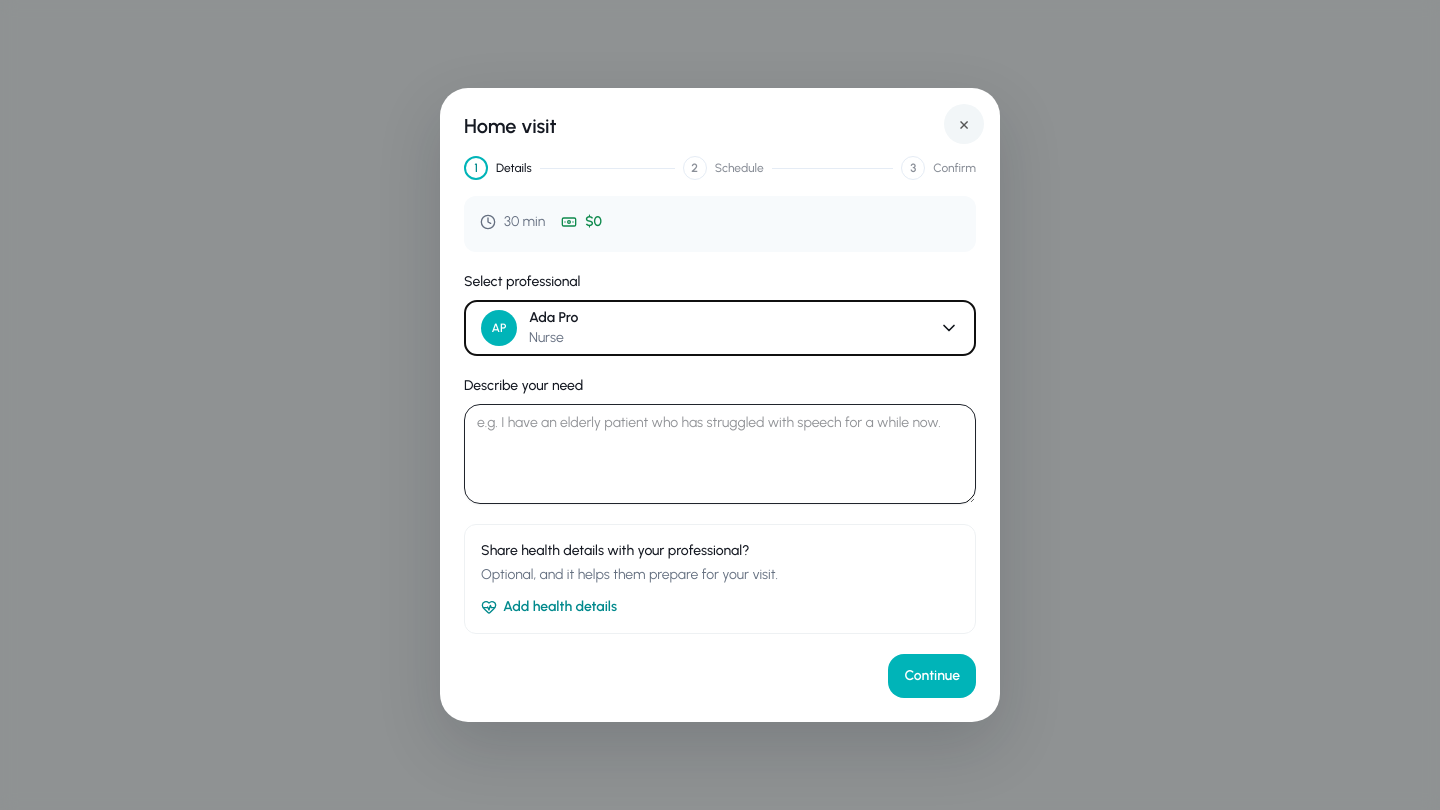
Scenario: booking is never blocked by the clinical layer › still reaches the schedule step when saving the profile fails
The width and height of the screenshot is (1440, 810).
Click the button "Add health details" at (549, 607), box [481,597,617,617]
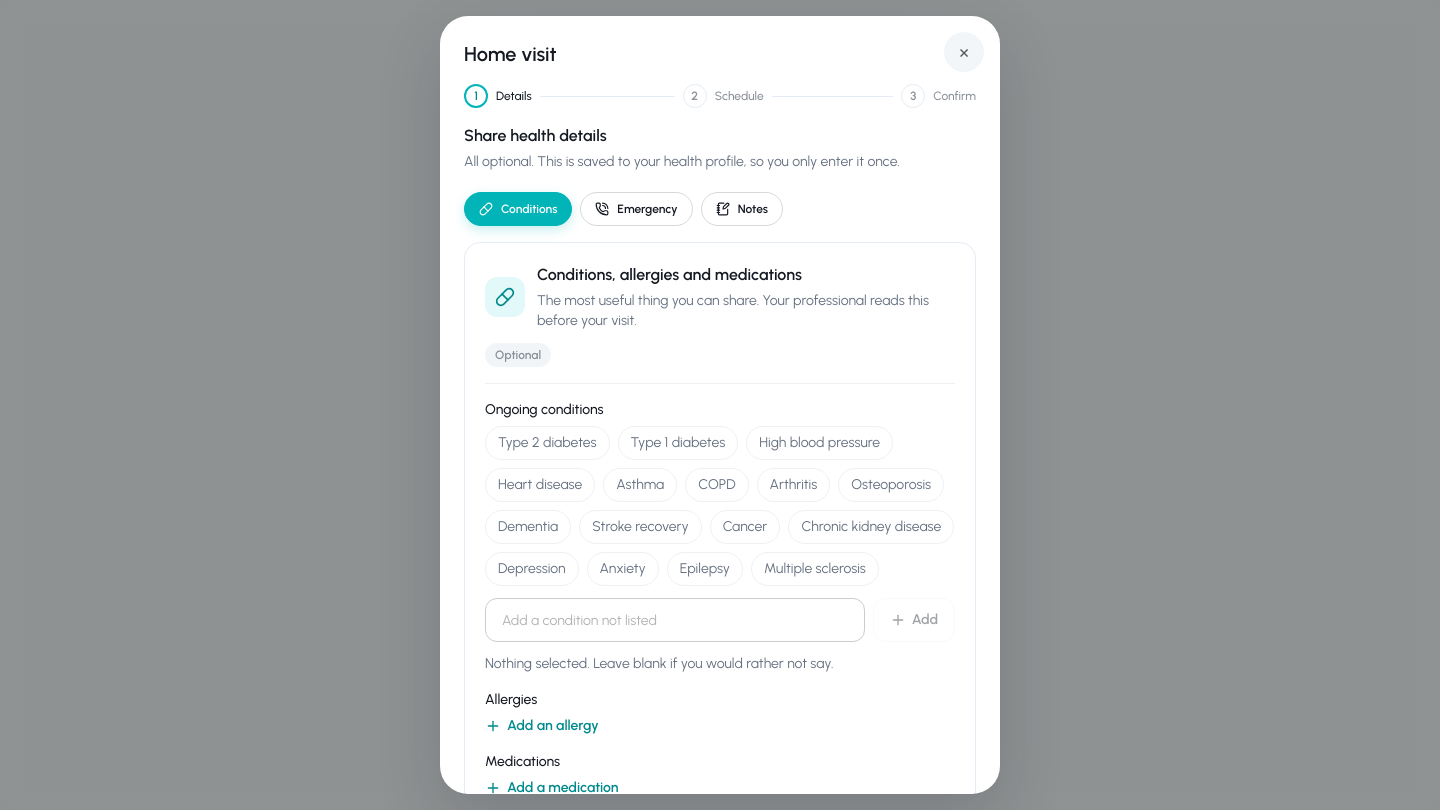
# Put something in, so the save is actually attempted.
Click the button "Asthma" at (640, 485), box [603,468,677,502]
(page scrolled)
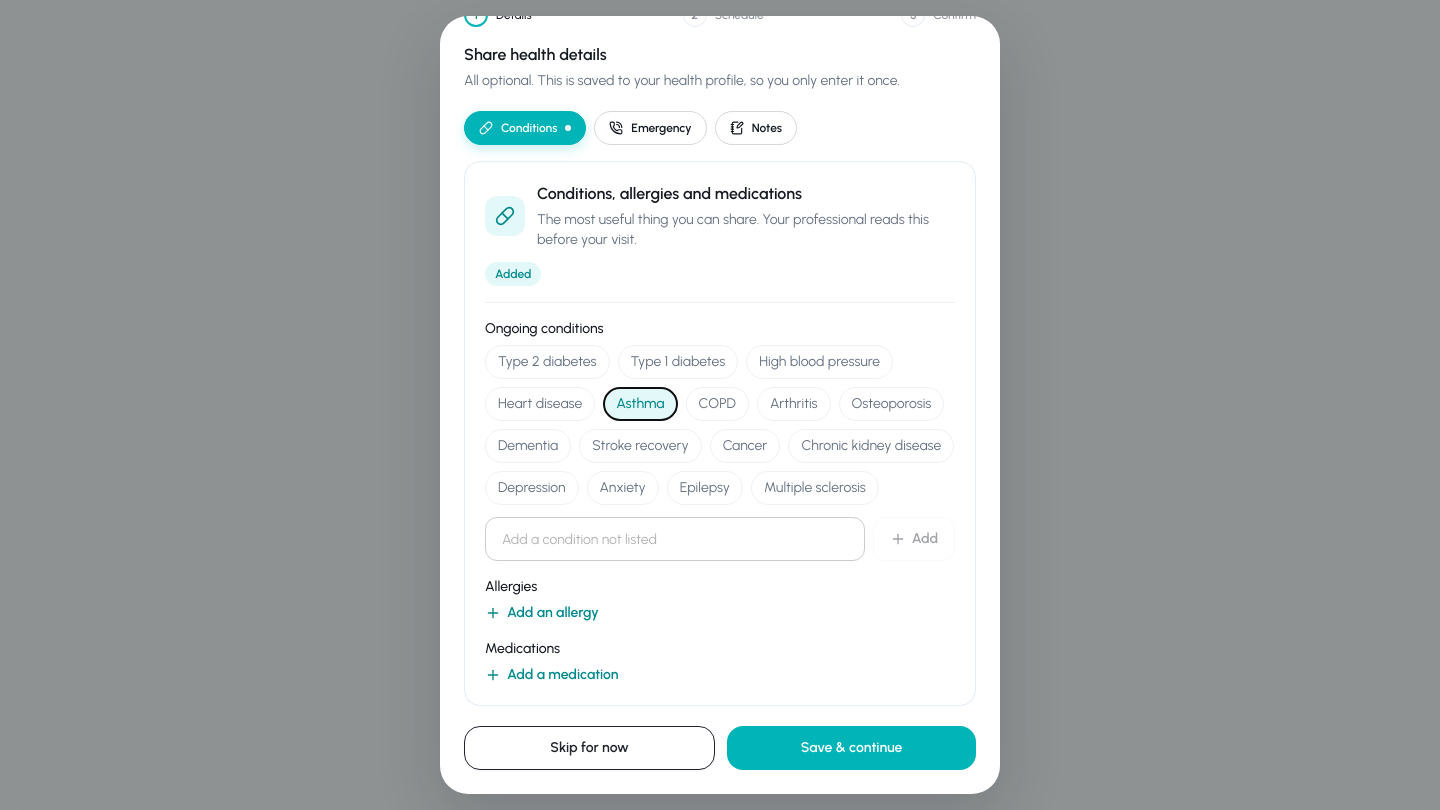
Click the button "Save & continue" at (852, 748), box [727,726,976,770]
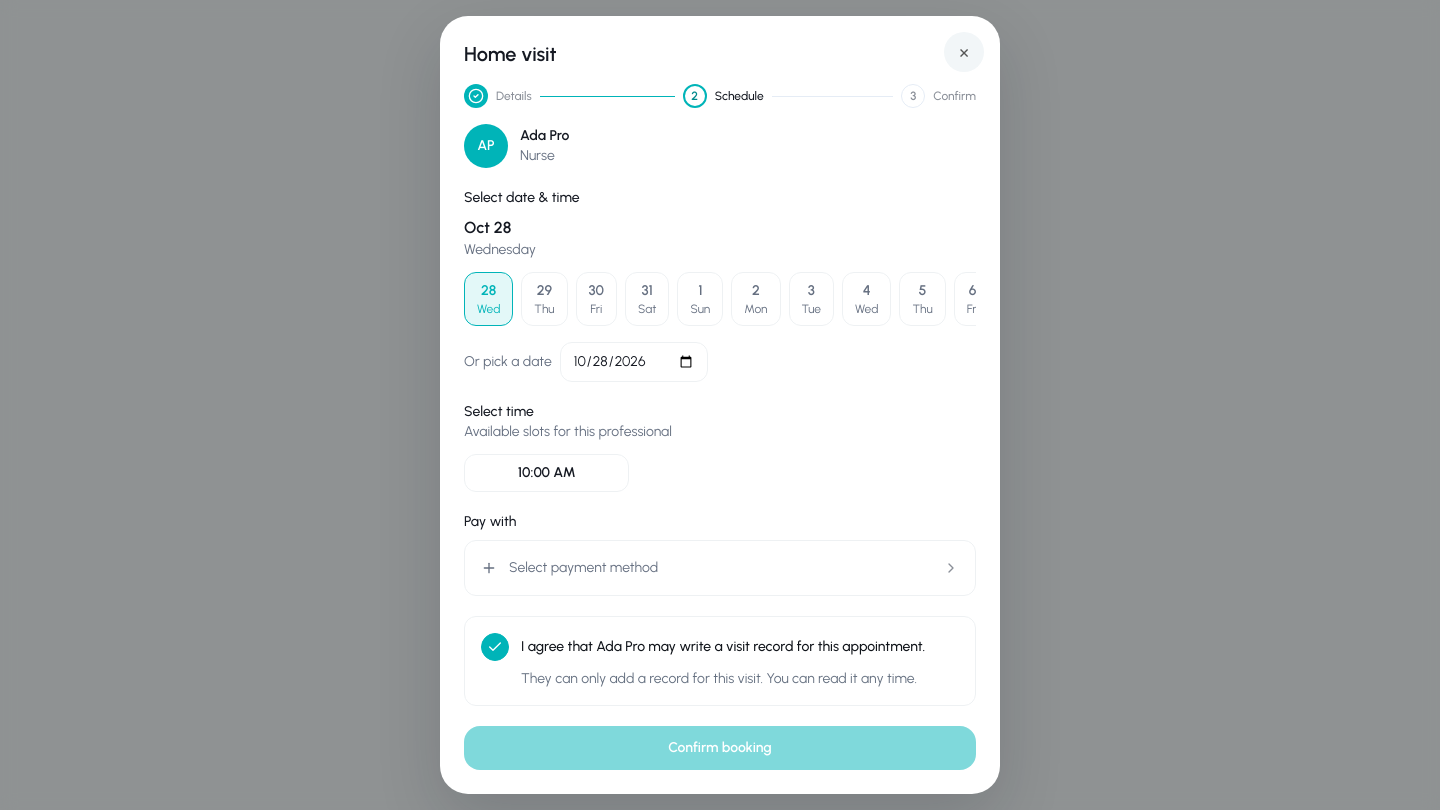
Expected: the button "10:00 AM" is shown, [464,454,629,492]
